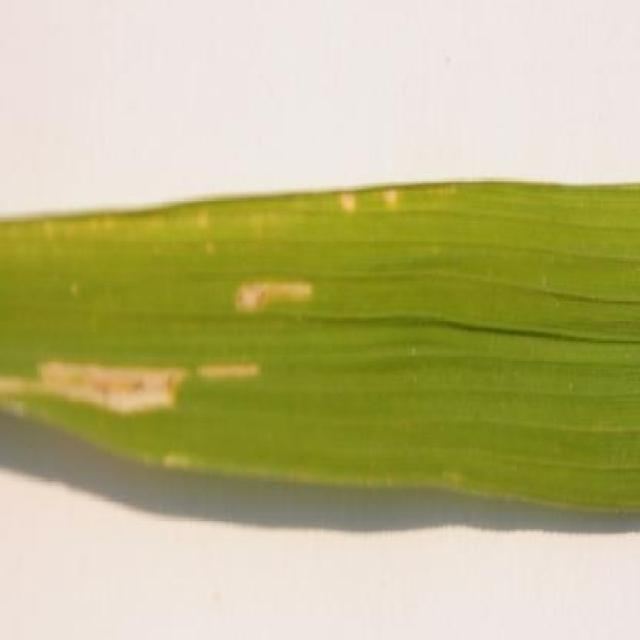Brown_Spot: (0, 164, 640, 590), (0, 171, 437, 366), (0, 315, 275, 481)
